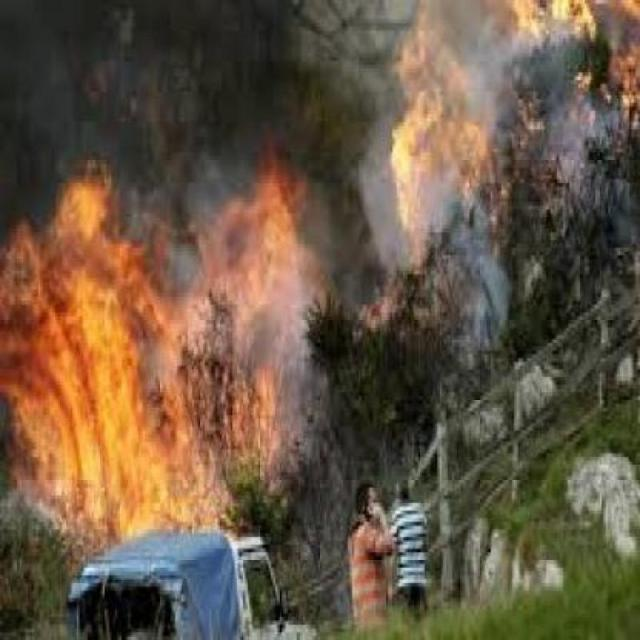Fire: (0, 205, 255, 532), (415, 0, 640, 258)
